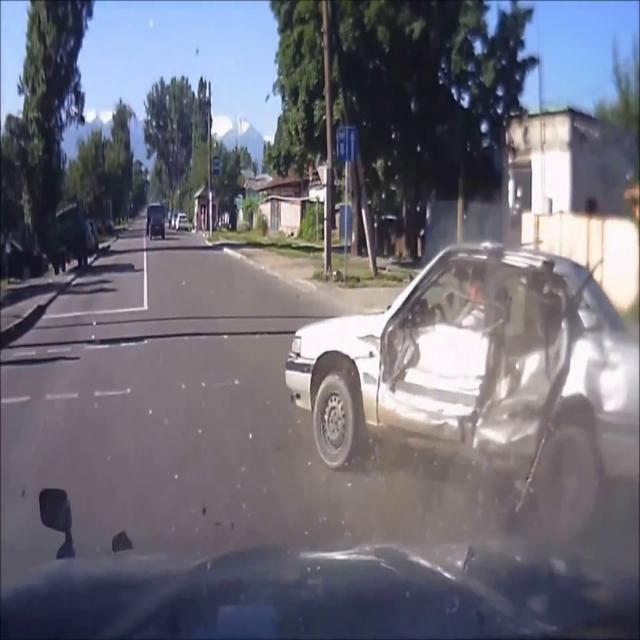accident: (282, 204, 619, 514)
